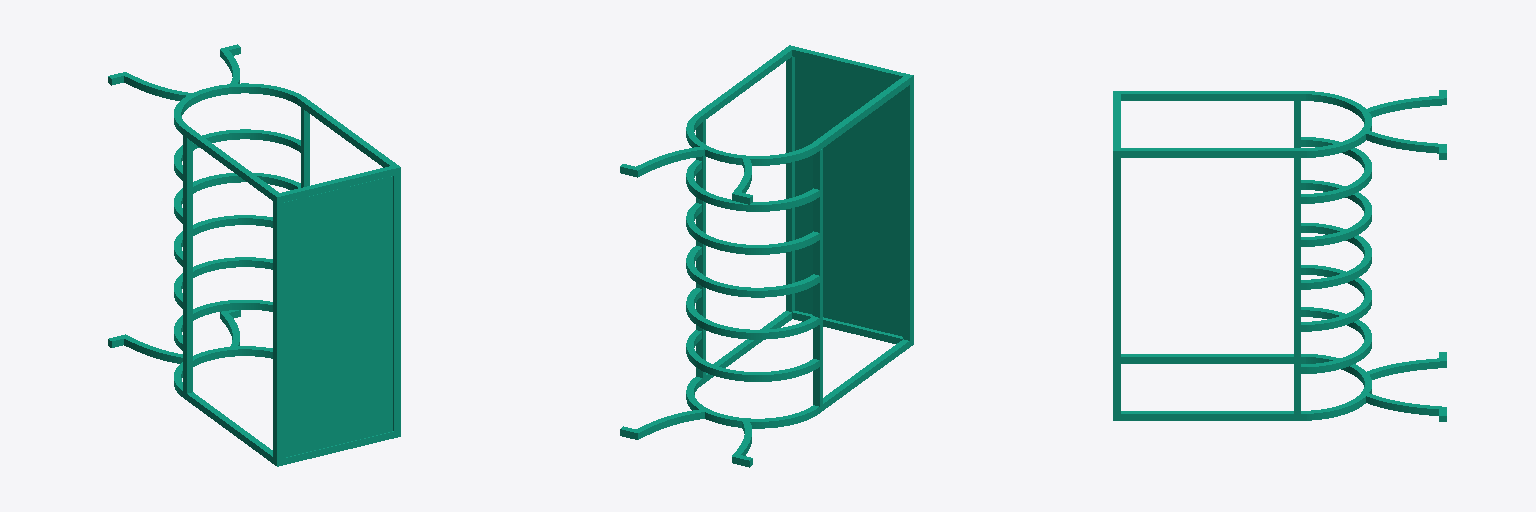
The model's file is NewspaperRack.obj.
3 views of the same model, side by side, from view 1: azimuth 30°, elevation 25°; view 2: azimuth 150°, elevation 25°; view 3: azimuth 270°, elevation 25° (orthographic).
Visible parts, largest first — view 1: Dergilik; view 2: Dergilik; view 3: Dergilik.
Boxes of the visible parts, x1,y1,x2,y2 form: Dergilik: [108, 44, 400, 466]; Dergilik: [620, 45, 913, 467]; Dergilik: [1113, 90, 1446, 421].
Bounding box in the file's own units: 19.89 × 39.5 × 44.26.